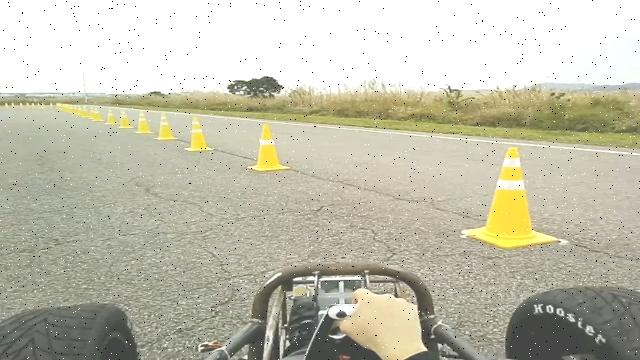yellow cone: (460, 146, 560, 248), (247, 123, 290, 171), (184, 116, 213, 151), (154, 112, 178, 140), (134, 110, 153, 134), (117, 110, 133, 128), (104, 108, 118, 124), (89, 107, 104, 121), (57, 104, 72, 114), (80, 106, 91, 118), (75, 106, 85, 116)
